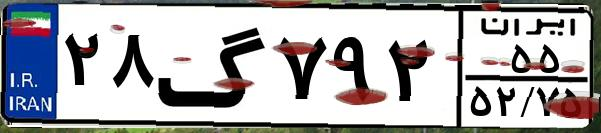2: (385, 28, 445, 110), (57, 26, 110, 100), (495, 70, 520, 125)
5: (560, 70, 590, 125), (537, 27, 568, 80), (508, 27, 537, 80), (470, 70, 495, 125)
7: (270, 28, 330, 110), (535, 70, 560, 125)
8: (110, 28, 156, 98)
9: (330, 28, 385, 110)
گ: (156, 12, 270, 120)
